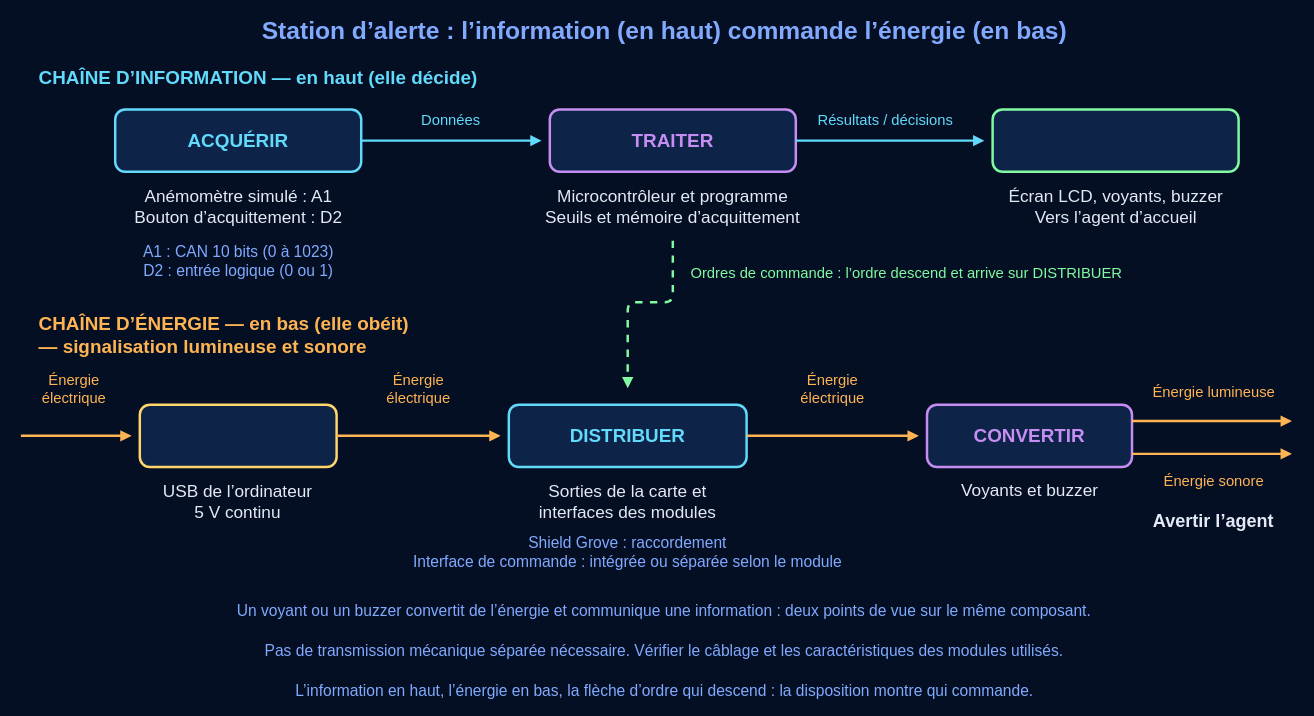
Image size: 1314x716. Some labels were removed from this diagram. The centre of each missing label's shape, as x and y in pixels:
"ALIMENTER" goes at point 237,435.
"COMMUNIQUER" goes at point 1115,140.
